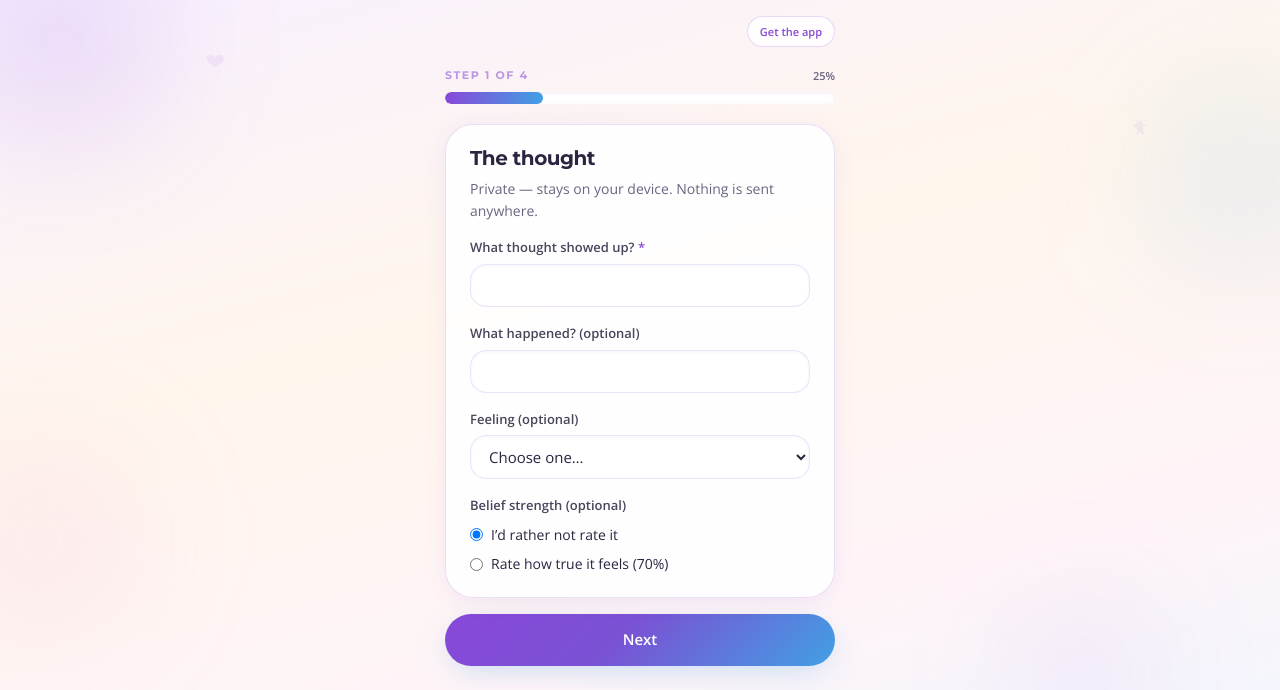
Test: ThoughtChallengerPlay step 3 › shows Skip this step before a prompt is selected
Type "They hate me" into the field labelled "What thought showed up? *" at (640, 286), box 470,264 -> 810,307
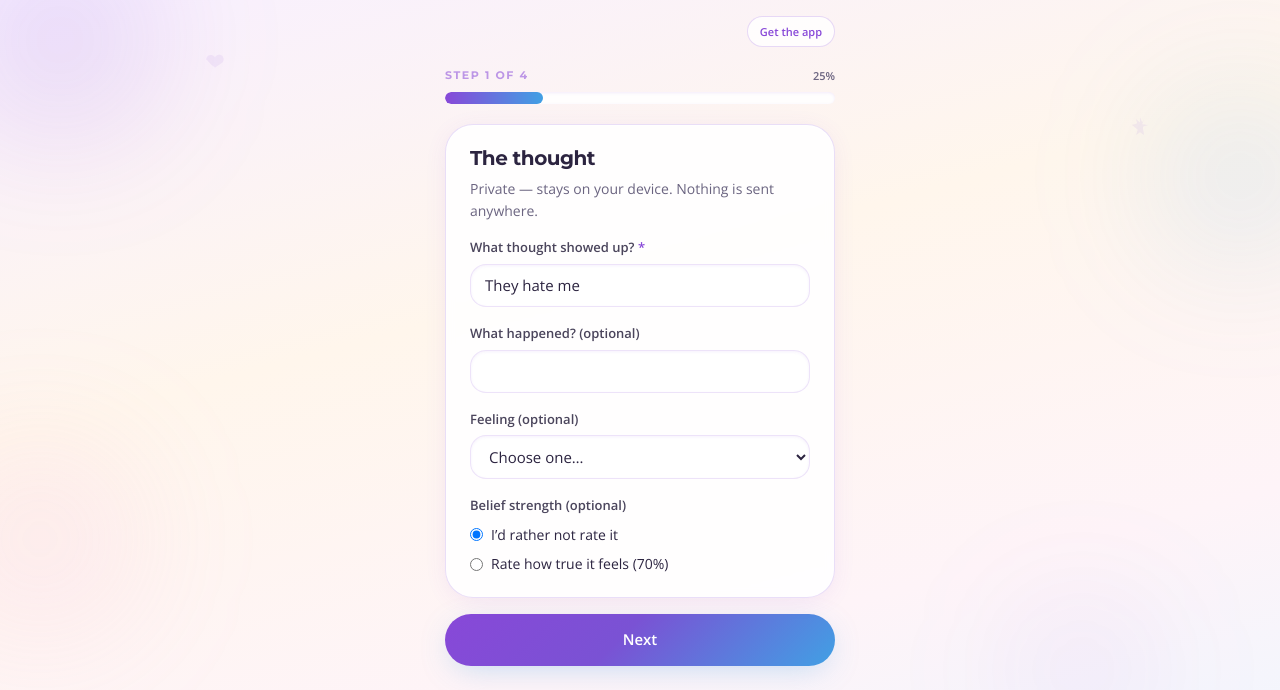
Click the button "Next" at (640, 640), box 445,614 -> 835,666
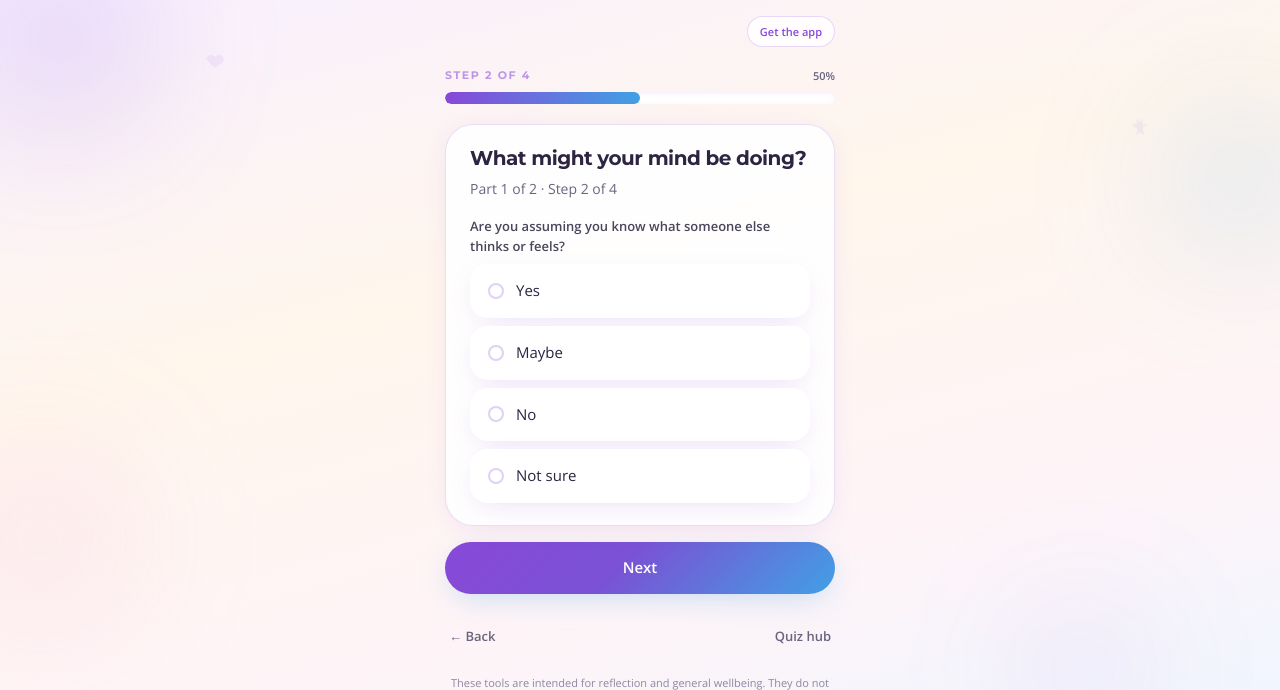
Click the radio button labelled "No" at (496, 414), box 470,388 -> 810,441
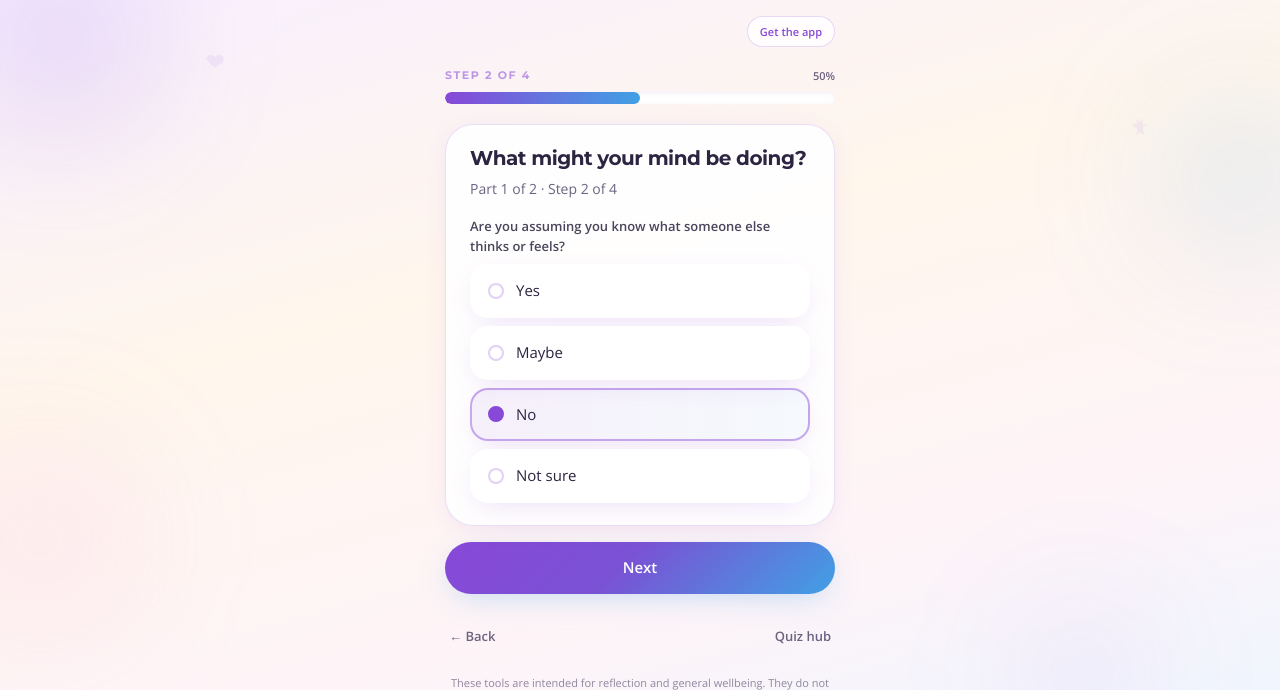
Click the button "Next" at (640, 568), box 445,542 -> 835,594
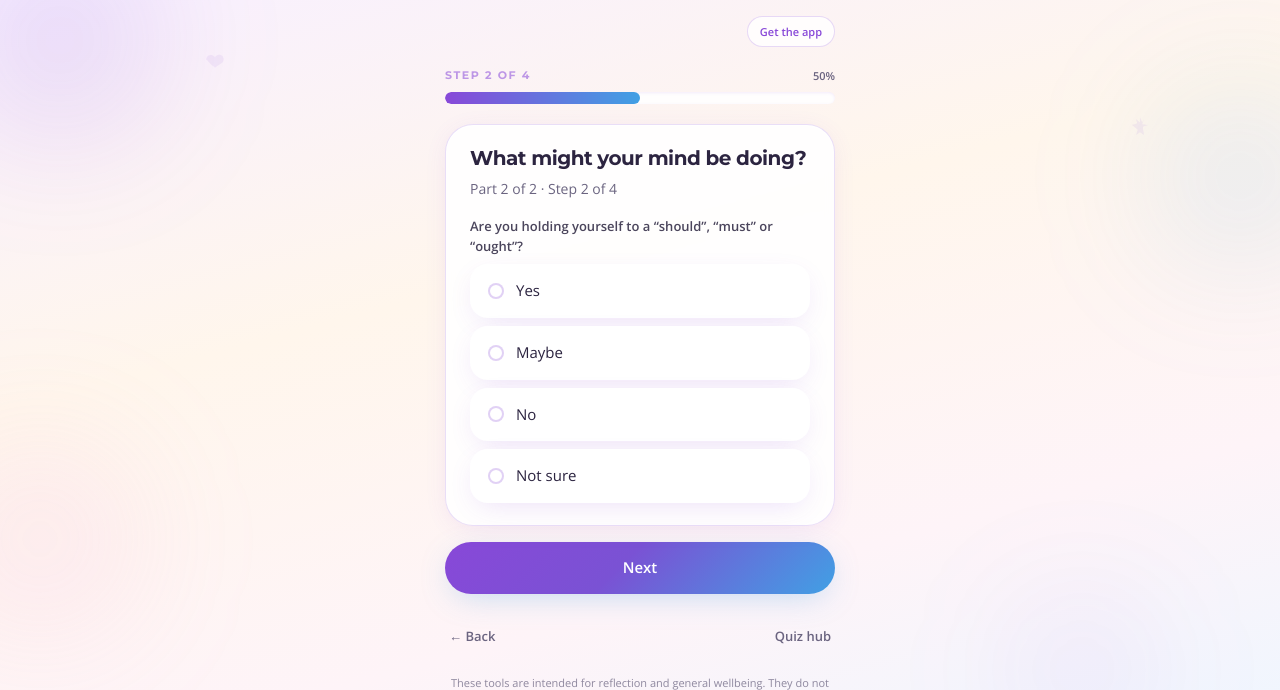
Click the radio button labelled "No" at (496, 414), box 470,388 -> 810,441
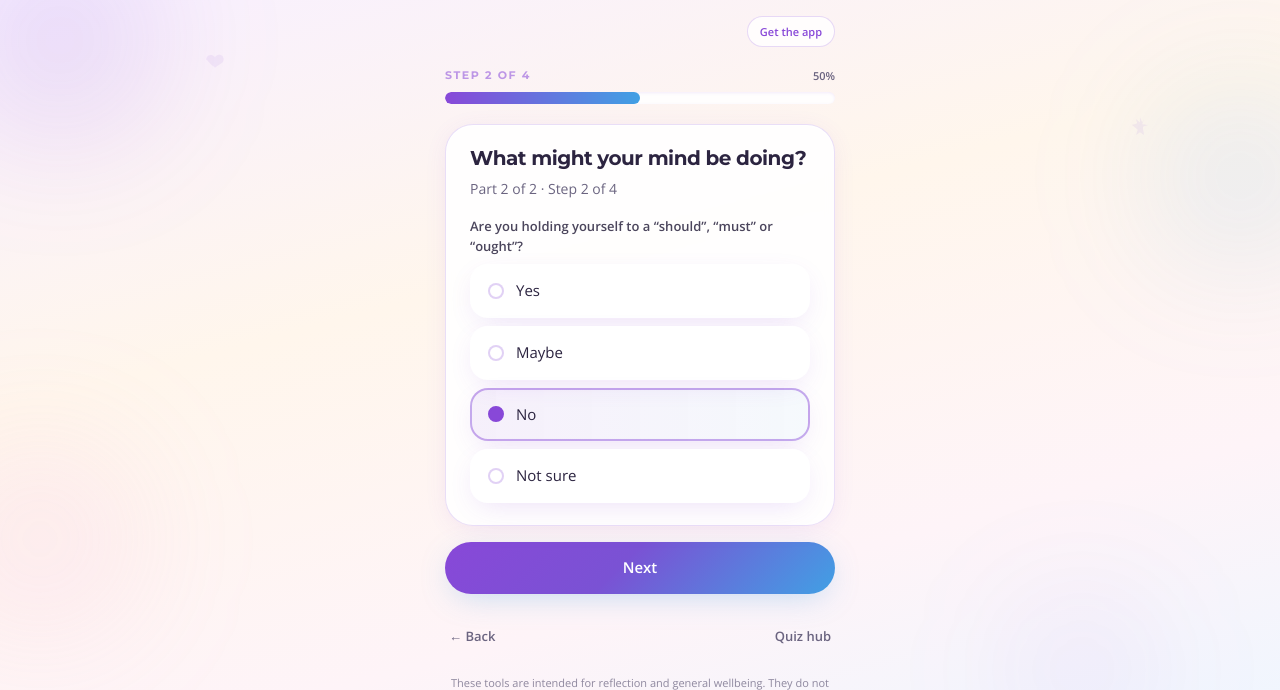
Click the button "Next" at (640, 568), box 445,542 -> 835,594
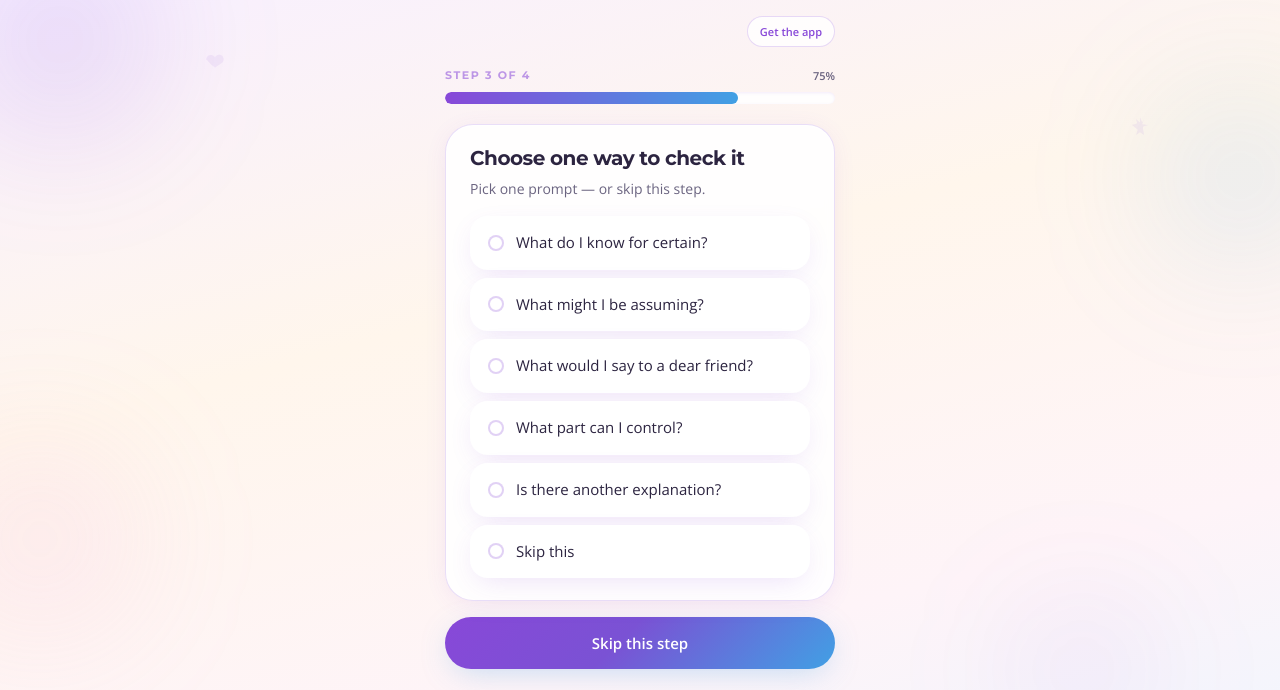
Now the button "Skip this step" is shown, box 445,617 -> 835,669
